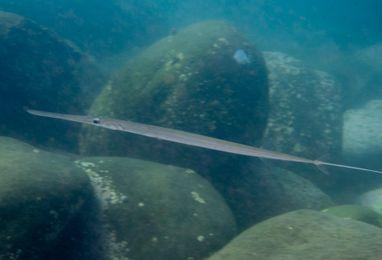Fistularia commersonii: (22, 89, 382, 213)
